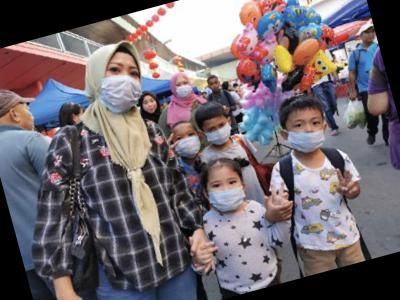mask_weared_incorrect: (282, 111, 330, 155)
with_mask: (92, 55, 147, 114), (202, 171, 249, 215), (168, 125, 204, 163), (202, 115, 236, 149), (172, 76, 194, 100)
without_mask: (14, 100, 38, 135), (139, 93, 161, 116), (360, 27, 378, 47), (208, 78, 223, 93)
